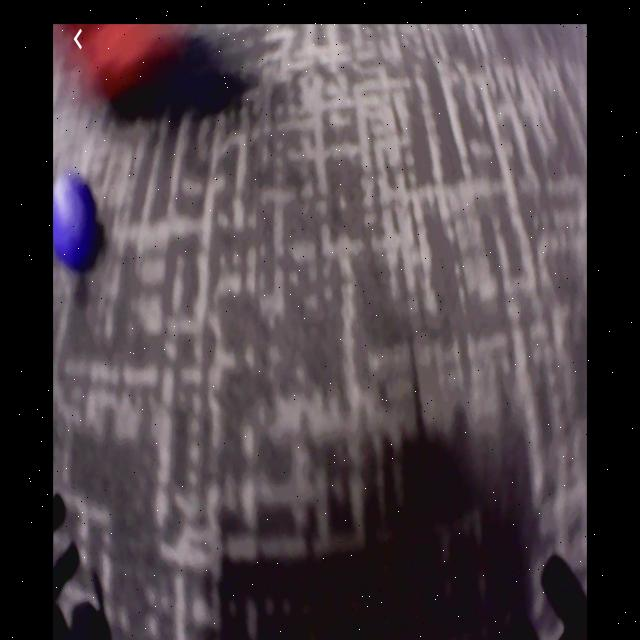ball: (54, 172, 100, 265)
